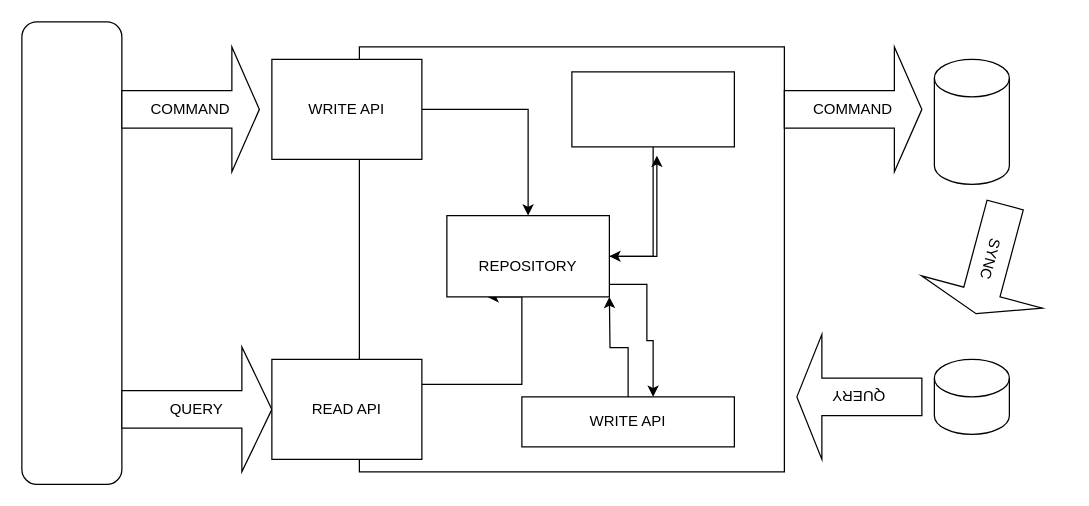
This 1089x506 diagram has some shape labels left out. Each missing label, with the box of its shape:
CLIENT: (21, 21, 122, 484)
DOMAIN MODEL: (571, 71, 734, 147)
NON RELATIONAL: (933, 358, 1009, 434)
RELATIONAL: (933, 58, 1009, 184)
